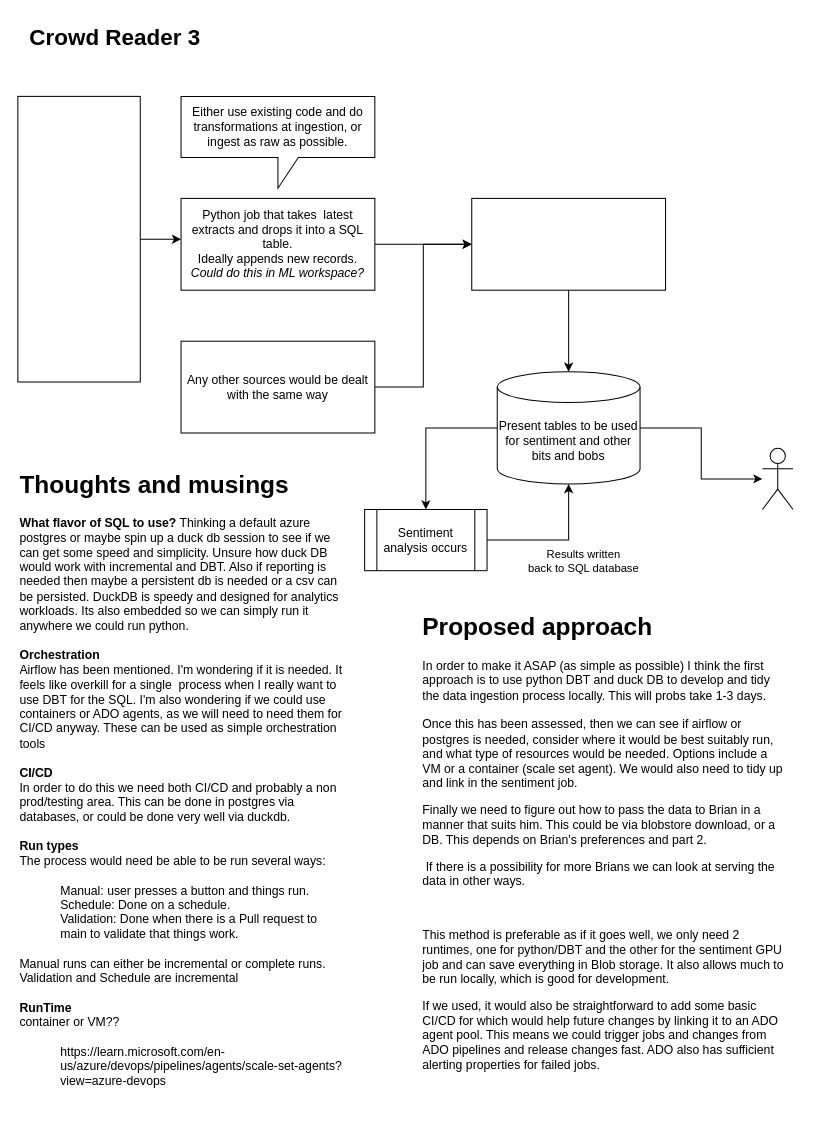
Image size: 835x1126. Some labels were removed from this diagram. The centre of each missing label's shape, as x and y in pixels:
"Azure Blob Storage" goes at point (78, 238).
"Brain can pull data from here" goes at point (777, 478).
"Combine all the extracts into a giga table. Extra logic here done in SQL and DBT" goes at point (568, 243).
